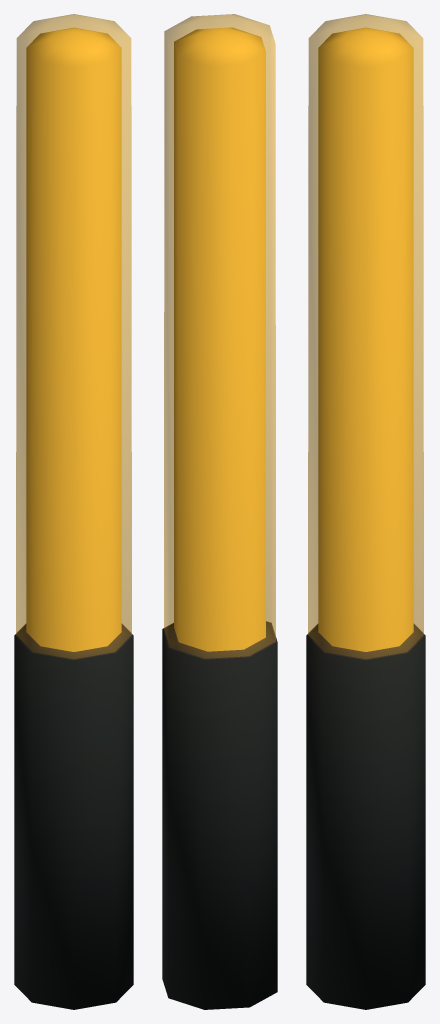
The model's file is handlight.FBX.
3 views of the same model, side by side, from view 1: azimuth 90°, elevation 25°; view 2: azimuth 210°, elevation 25°; view 3: azimuth 270°, elevation 25° (orthographic).
Parts seen in each view (by area): view 1: Cylinder001; view 2: Cylinder001; view 3: Cylinder001.
Boxes of the visible parts, bbox=[...] form: Cylinder001: bbox=[14, 14, 133, 1009]; Cylinder001: bbox=[162, 14, 277, 1009]; Cylinder001: bbox=[306, 14, 425, 1009].
Bounding box in the file's own units: 4.87 × 44.06 × 4.87.
Materials: 2 (2 with a texture image).
